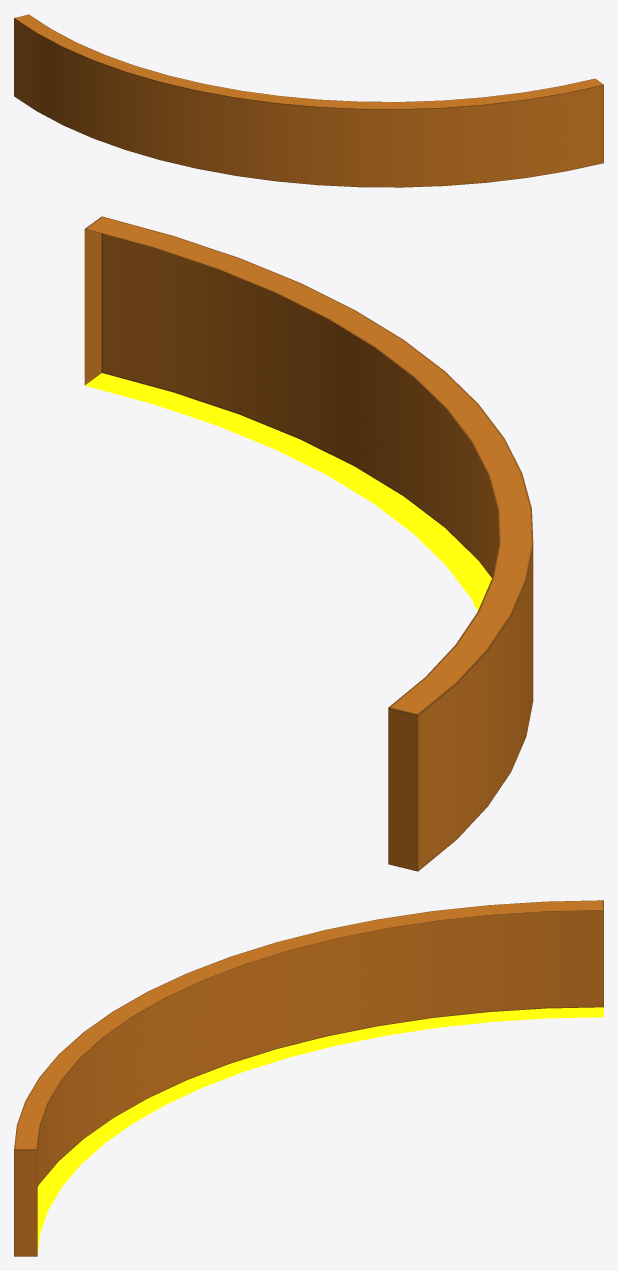
Rendered from Wall_Frieze_08.FBX.
3 views of the same model, one above another, from view 1: azimuth 30°, elevation 25°; view 2: azimuth 150°, elevation 25°; view 3: azimuth 270°, elevation 25° (orthographic). The views are drawn at different scales.
Visible parts, largest first — view 1: Wall_Frieze_08; view 2: Wall_Frieze_08; view 3: Wall_Frieze_08.
Boxes of the visible parts, x1,y1,x2,y2 form: Wall_Frieze_08: (14,14,603,187); Wall_Frieze_08: (84,216,533,871); Wall_Frieze_08: (14,900,603,1256).
Bounding box in the file's own units: 6.25 × 1.25 × 6.25.
